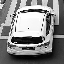motor: (14, 9, 50, 53)
